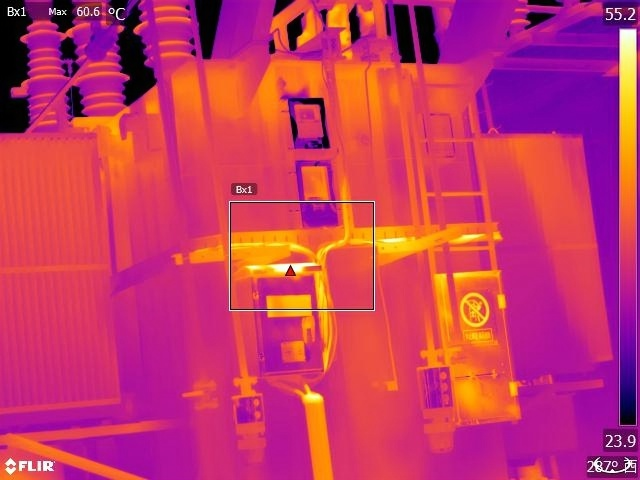transformer: (1, 53, 468, 464)
tube: (8, 1, 72, 127), (65, 1, 130, 117), (134, 1, 204, 72)
